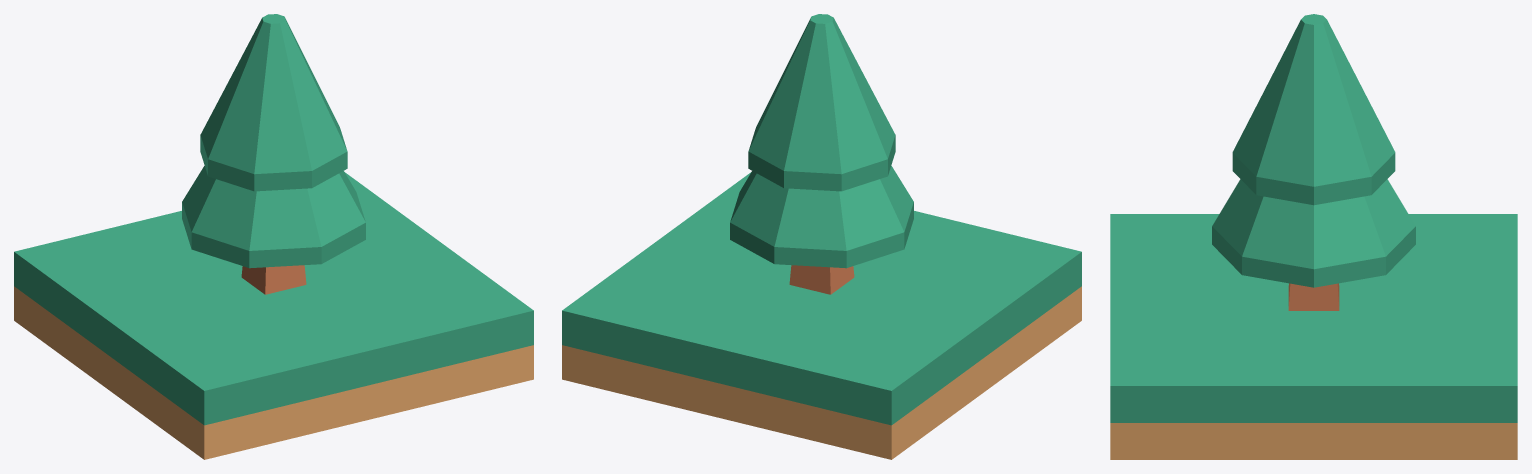
File: tile_tree.dae
3 views of the same model, side by side, from view 1: azimuth 30°, elevation 25°; view 2: azimuth 150°, elevation 25°; view 3: azimuth 270°, elevation 25° (orthographic). The views are drawn at different scales.
Visible parts, largest first — view 1: tile_tree, tree; view 2: tile_tree, tree; view 3: tile_tree, tree.
Part boxes in pixels (<box>): tile_tree: <box>14,172,533,459</box>; tree: <box>182,14,365,294</box>; tile_tree: <box>562,172,1081,459</box>; tree: <box>730,14,913,294</box>; tile_tree: <box>1110,214,1517,459</box>; tree: <box>1212,14,1415,310</box>.
Size of the model in its own units: 1 by 0.96 by 1.
